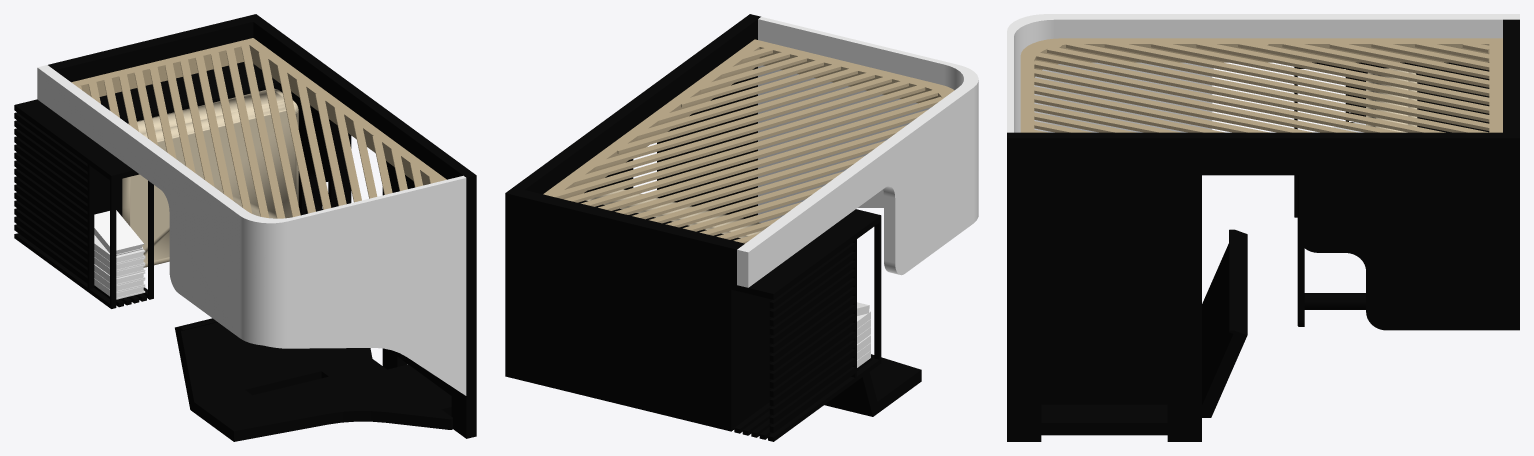
The picture shows the model from 3 angles, left to right: view 1: azimuth 30°, elevation 25°; view 2: azimuth 150°, elevation 25°; view 3: azimuth 270°, elevation 25°; orthographic projection. The views are drawn at different scales.
Parts seen in each view (by area): view 1: Right_Back, Laptop, Khaiya, Right_Arm, Body3, Body1, Left_Arm, Body87, Body86; view 2: Body1, Khaiya, Right_Back, Right_Arm, Laptop, Left_Arm, Body3; view 3: Laptop, Khaiya, Left_Arm, Right_Back, Body1, Body3, Right_Arm.
Boxes of the visible parts, box(x1,y1,x2,y2) form: Right_Back: box(37, 65, 466, 395); Laptop: box(175, 14, 476, 441); Khaiya: box(71, 38, 446, 218); Right_Arm: box(14, 99, 153, 308); Body3: box(122, 88, 298, 267); Body1: box(48, 16, 279, 123); Left_Arm: box(280, 83, 351, 215); Body87: box(94, 210, 143, 255); Body86: box(94, 235, 145, 264); Body1: box(516, 190, 744, 429); Khaiya: box(543, 39, 954, 243); Right_Back: box(737, 17, 978, 287); Right_Arm: box(725, 209, 881, 441); Laptop: box(505, 14, 921, 416); Left_Arm: box(505, 159, 633, 381); Body3: box(586, 189, 763, 238); Laptop: box(1007, 132, 1519, 441); Khaiya: box(1020, 38, 1502, 132); Left_Arm: box(1297, 175, 1519, 330); Right_Back: box(1007, 14, 1519, 132); Body1: box(1417, 19, 1519, 132); Body3: box(1366, 68, 1417, 132); Right_Arm: box(1294, 62, 1417, 217).
Size of the model in its own units: 990 by 980 by 1500.
